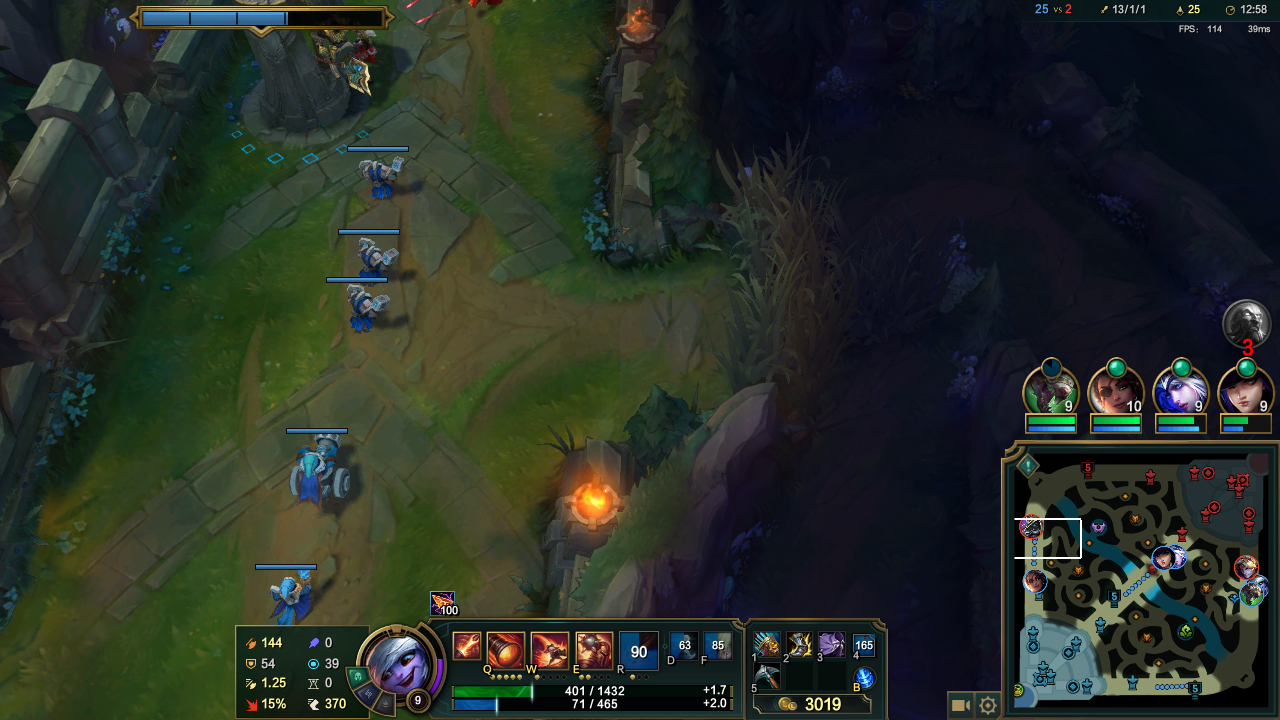WFXB: (278, 433, 366, 516), (259, 569, 324, 625), (328, 280, 390, 333), (348, 155, 412, 202), (350, 239, 411, 286)
